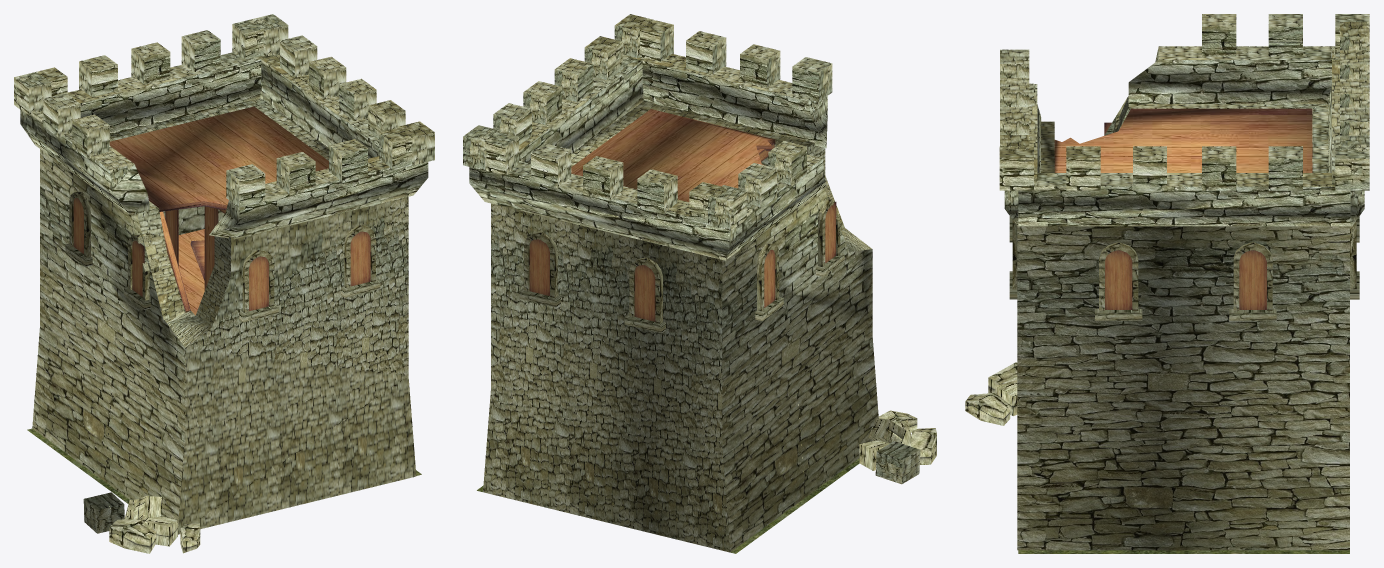
Rendered from SquareTower1desA.obj.
3 views of the same model, side by side, from view 1: azimuth 30°, elevation 25°; view 2: azimuth 150°, elevation 25°; view 3: azimuth 270°, elevation 25° (orthographic). The views are drawn at different scales.
Parts seen in each view (by area): view 1: Box259, Box204, Box254, Box220, Box256, Box258, Box180, Box224, Box223, Box222, Box250, Box251 (+29 smaller); view 2: Box259, Box254, Box204, Box220, Box256, Box258, Box252, Box251, Box250, Box224, Box230, Box223 (+24 smaller); view 3: Box259, Box256, Box204, Box258, Box254, Box229, Box238, Box232, Box203, Box233, Box255, Box237 (+19 smaller).
Boxes of the visible parts, x1=… form: Box259: x1=32, y1=98, x2=416, y2=534; Box204: x1=109, y1=106, x2=328, y2=211; Box254: x1=20, y1=52, x2=279, y2=152; Box220: x1=209, y1=156, x2=428, y2=239; Box256: x1=259, y1=53, x2=379, y2=158; Box258: x1=26, y1=112, x2=150, y2=216; Box180: x1=178, y1=229, x2=204, y2=315; Box224: x1=226, y1=164, x2=265, y2=207; Box223: x1=276, y1=152, x2=315, y2=195; Box222: x1=329, y1=139, x2=367, y2=182; Box250: x1=181, y1=30, x2=220, y2=71; Box251: x1=131, y1=42, x2=170, y2=84; Box259: x1=483, y1=101, x2=878, y2=552; Box254: x1=469, y1=161, x2=736, y2=260; Box204: x1=571, y1=109, x2=775, y2=201; Box220: x1=623, y1=53, x2=827, y2=148; Box256: x1=519, y1=56, x2=643, y2=163; Box258: x1=727, y1=154, x2=826, y2=258; Box252: x1=637, y1=169, x2=677, y2=214; Box251: x1=583, y1=156, x2=623, y2=200; Box250: x1=531, y1=143, x2=571, y2=188; Box224: x1=792, y1=57, x2=832, y2=101; Box230: x1=875, y1=441, x2=920, y2=484; Box223: x1=740, y1=44, x2=780, y2=87; Box259: x1=1017, y1=96, x2=1349, y2=550; Box256: x1=1018, y1=173, x2=1350, y2=226; Box204: x1=1054, y1=108, x2=1312, y2=172; Box258: x1=1128, y1=46, x2=1339, y2=103; Box254: x1=1328, y1=46, x2=1364, y2=226; Box229: x1=1105, y1=250, x2=1132, y2=309; Box238: x1=1239, y1=250, x2=1266, y2=309; Box232: x1=1066, y1=146, x2=1100, y2=190; Box203: x1=1202, y1=146, x2=1236, y2=190; Box233: x1=1268, y1=146, x2=1302, y2=190; Box255: x1=1335, y1=146, x2=1369, y2=190; Box237: x1=999, y1=146, x2=1033, y2=190.
Bounding box in the file's own units: 93.74 × 101 × 92.68.
